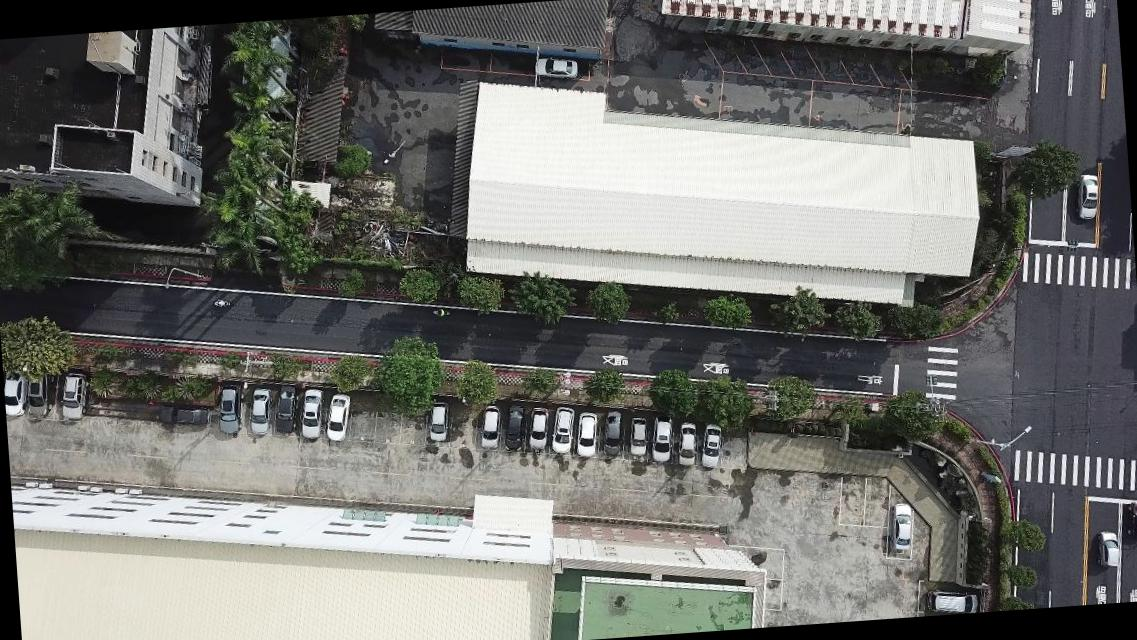vehicle: (58, 370, 94, 420), (22, 363, 54, 418), (924, 583, 980, 614), (154, 400, 210, 430), (1073, 168, 1102, 220), (324, 390, 352, 442), (272, 382, 300, 434), (246, 384, 275, 434), (501, 401, 529, 452), (299, 386, 324, 442), (598, 408, 625, 458), (219, 384, 244, 436), (550, 406, 577, 454), (888, 500, 913, 550), (574, 410, 600, 458), (649, 416, 674, 464), (476, 402, 502, 448), (534, 53, 578, 80), (698, 421, 722, 469), (425, 398, 451, 442), (678, 418, 700, 468), (624, 414, 650, 454), (3, 368, 23, 418), (1094, 530, 1120, 566), (529, 406, 551, 448), (1124, 498, 1136, 540)
